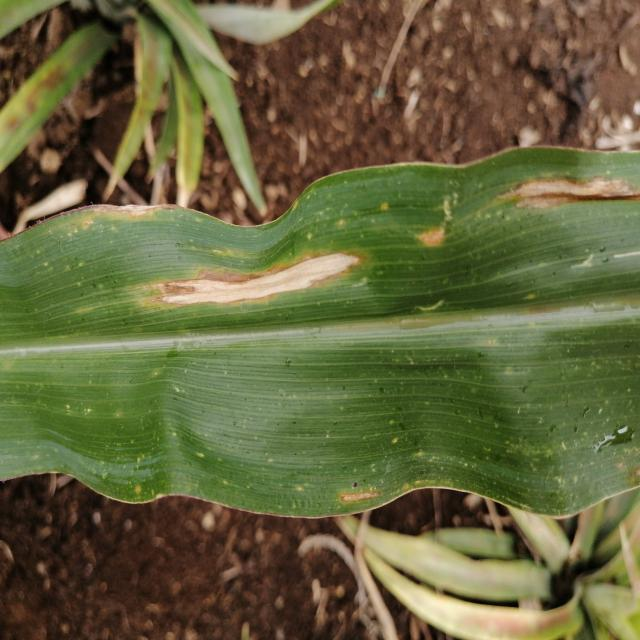Corn_Leaf_Blight: (0, 166, 465, 530)
